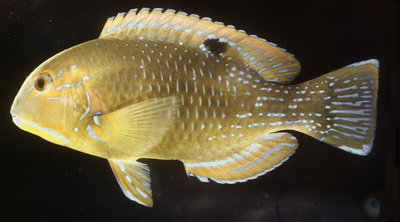fish: (10, 7, 380, 207)
